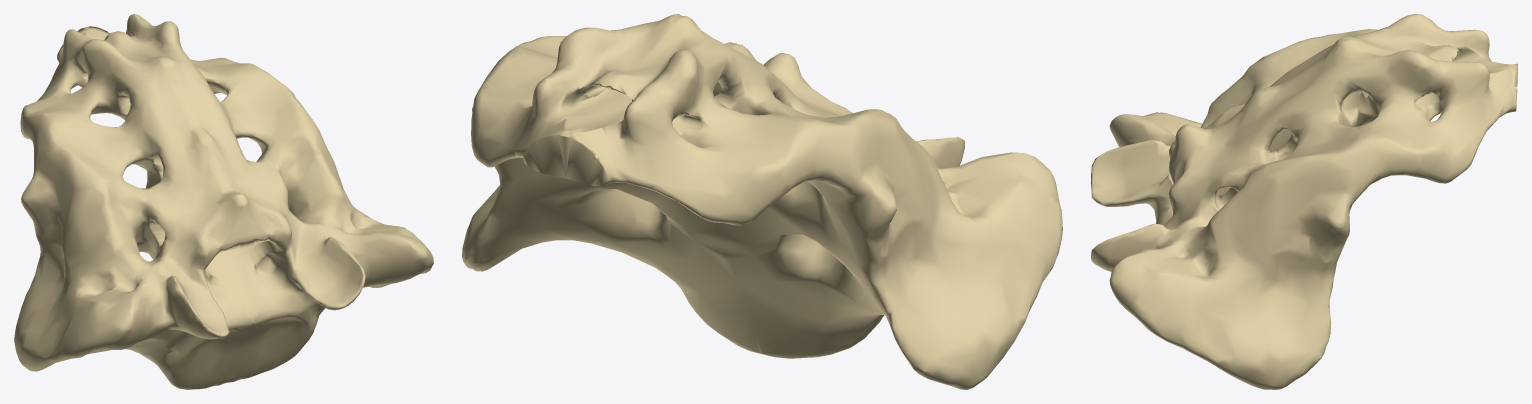
The picture shows the model from 3 angles, left to right: view 1: azimuth 30°, elevation 25°; view 2: azimuth 150°, elevation 25°; view 3: azimuth 270°, elevation 25°; orthographic projection. The views are drawn at different scales.
Visible parts, largest first — view 1: 骶骨; view 2: 骶骨; view 3: 骶骨.
Part boxes in pixels (box(x1,y1,x2,y2)): 骶骨: box(14, 14, 433, 389); 骶骨: box(462, 14, 1062, 389); 骶骨: box(1091, 14, 1517, 389).
Size of the model in its own units: 0.1811 by 0.1347 by 0.1696.
